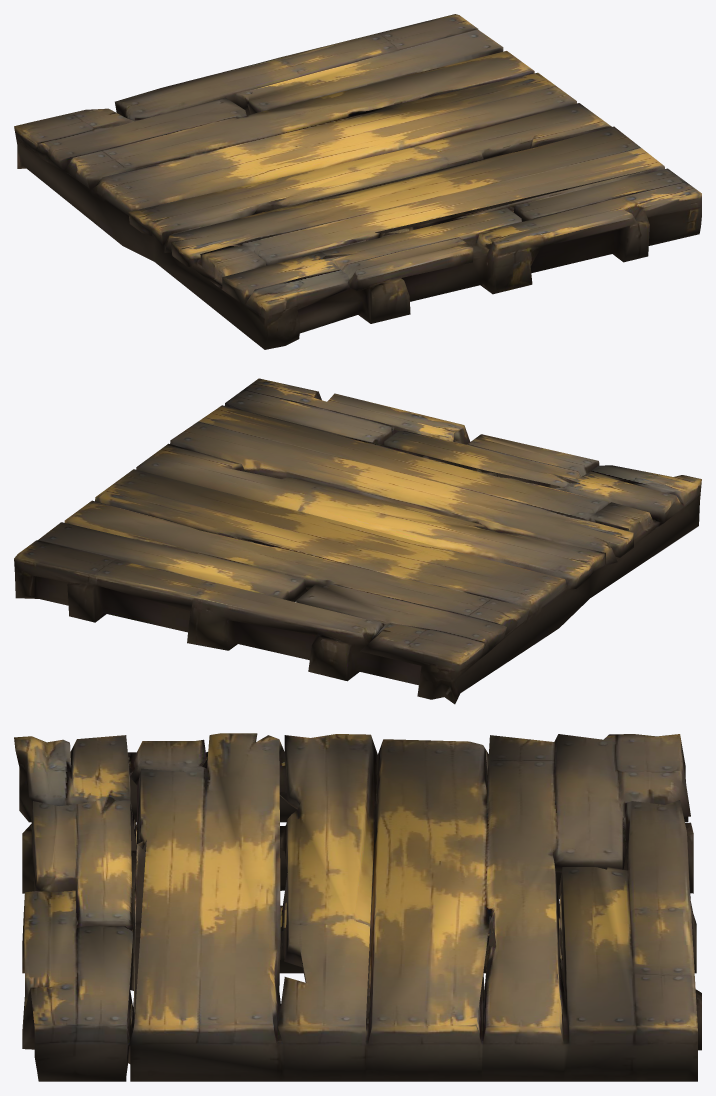
File: tripo_convert_5a247a50-c0f7-4977-9125-62bc5f4027d8.fbx
3 views of the same model, one above another, from view 1: azimuth 30°, elevation 25°; view 2: azimuth 150°, elevation 25°; view 3: azimuth 270°, elevation 25° (orthographic). The views are drawn at different scales.
Parts seen in each view (by area): view 1: tripo_node_5a247a50; view 2: tripo_node_5a247a50; view 3: tripo_node_5a247a50.
Boxes of the visible parts, bbox=[...] form: tripo_node_5a247a50: bbox=[14, 14, 701, 349]; tripo_node_5a247a50: bbox=[14, 378, 701, 704]; tripo_node_5a247a50: bbox=[14, 733, 701, 1081].
Bounding box in the file's own units: 0.9823 × 0.098 × 0.9669.
1 material, 1 textured.
